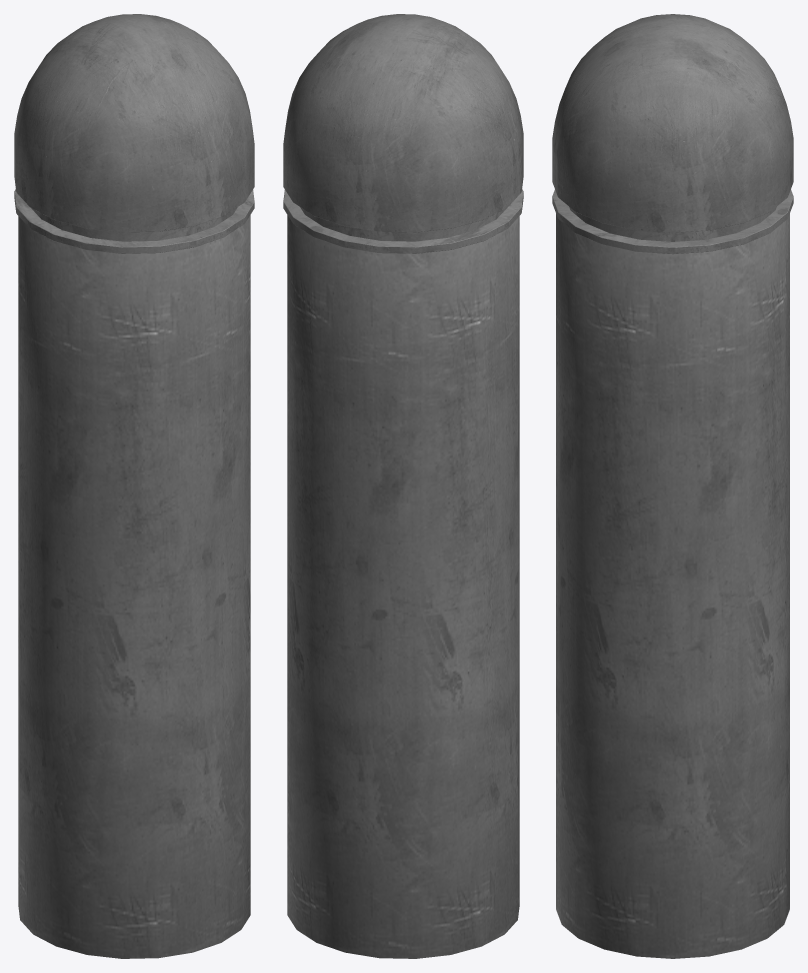
File: Tubo V1.fbx
The picture shows the model from 3 angles, left to right: view 1: azimuth 30°, elevation 25°; view 2: azimuth 150°, elevation 25°; view 3: azimuth 270°, elevation 25°; orthographic projection.
Visible parts, largest first — view 1: Pênis_V1; view 2: Pênis_V1; view 3: Pênis_V1.
Boxes of the visible parts, x1,y1,x2,y2 form: Pênis_V1: (14, 14, 254, 958); Pênis_V1: (283, 14, 523, 958); Pênis_V1: (552, 14, 793, 958).
Size of the model in its own units: 31.01 by 125 by 31.01.
